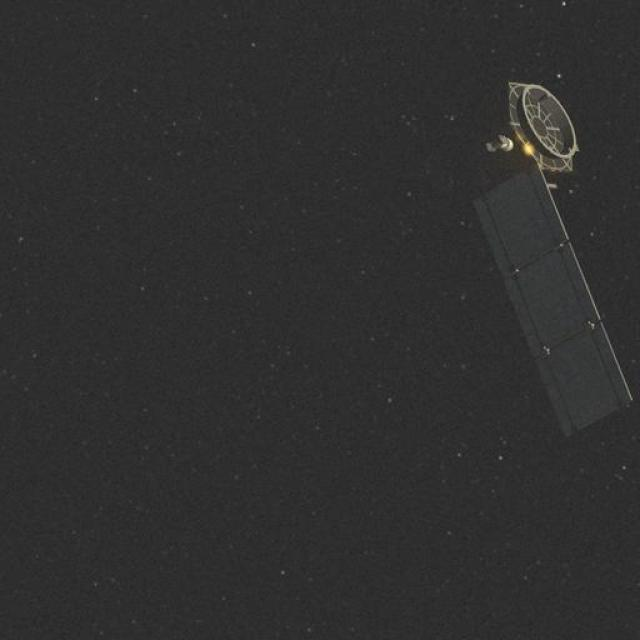earth_observation_sat_1: (423, 69, 637, 440)
